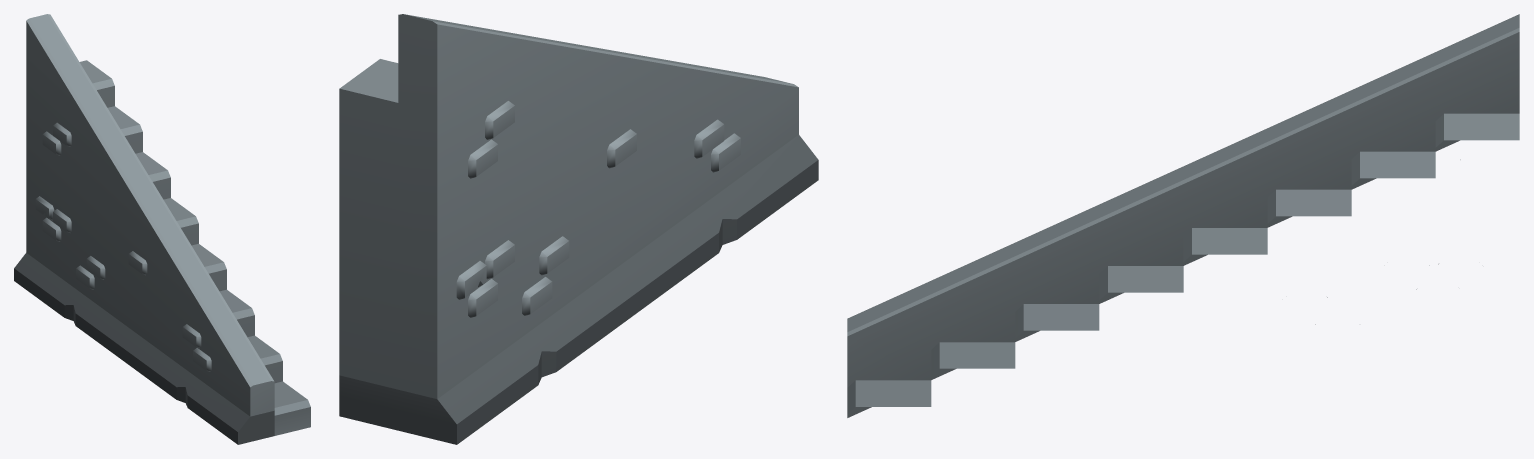
File: stairs_long_modular_left.gltf
3 renders of one model, left to right at view 1: azimuth 30°, elevation 25°; view 2: azimuth 150°, elevation 25°; view 3: azimuth 270°, elevation 25°, orthographic. The views are drawn at different scales.
Visible parts, largest first — view 1: stairs_long_modular_left; view 2: stairs_long_modular_left; view 3: stairs_long_modular_left.
Part boxes in pixels (x1,y1,x2,y2): stairs_long_modular_left: (14, 14, 310, 444); stairs_long_modular_left: (339, 14, 818, 444); stairs_long_modular_left: (847, 14, 1519, 417).
Bounding box in the file's own units: 1.5 × 5.1 × 8.
1 material, 1 textured.
